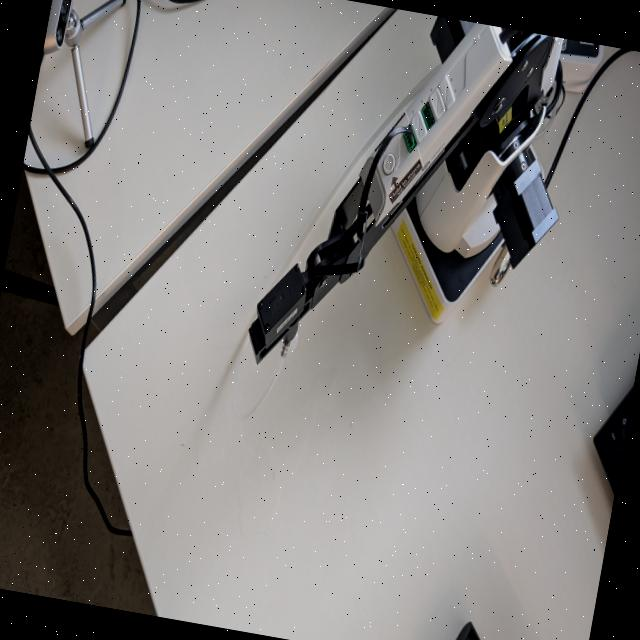Robot-end-effector-HF8z: (240, 246, 324, 376)
